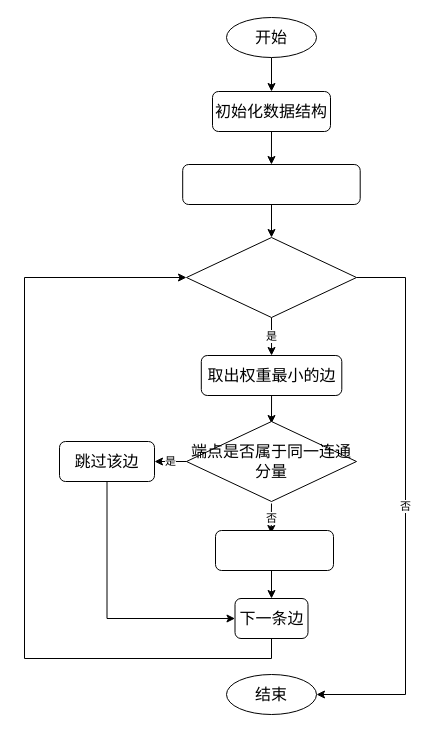
Some shapes in this 431 by 732 pixel diagram are drawn without their labels. Each missing label, with the centre of its shape:
"加入最小生成树" goes at pixel 274 550.
"计算每个边权重，并排序" goes at pixel 271 184.
"边数 < numVertices - 1 且 优先队列不空？" goes at pixel 271 277.
